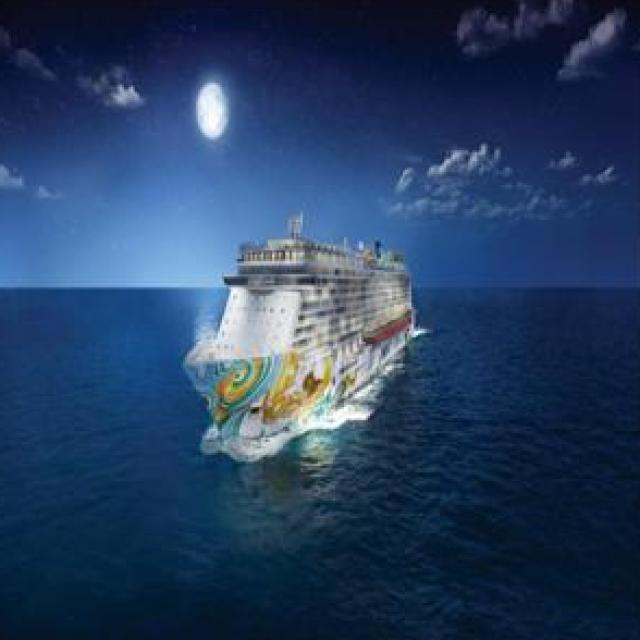passenger ship: (184, 206, 410, 473)
